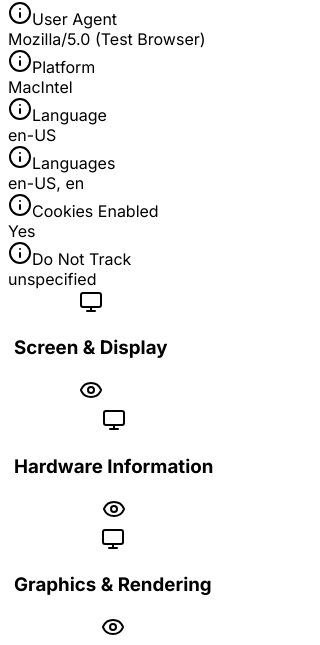
Test: Browser Fingerprint Page - Component Tests › should toggle section when clicked
The width and height of the screenshot is (320, 645).
(page scrolled)
Expected: the heading "Screen & Display" is shown, [14,336,168,360]
Click the button "Screen & Display": (91, 348) [8,289,174,407]
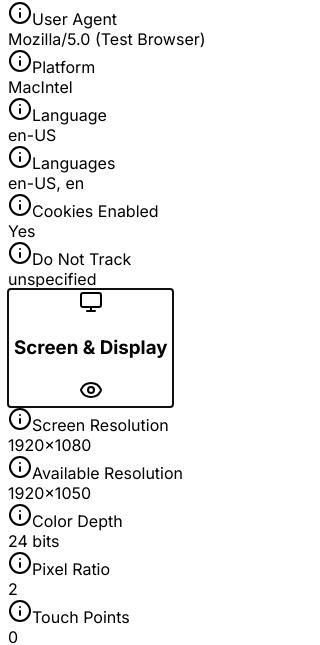
Expected: the text "Screen Resolution" is shown, [32,415,169,435]
Expected: the text "1920x1080" is shown, [8,435,92,455]
